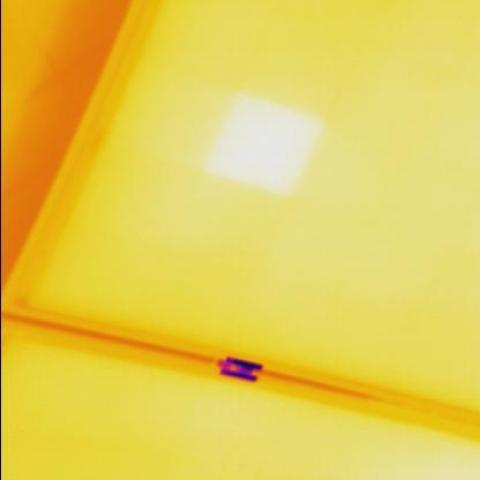fault: (202, 89, 321, 191)
